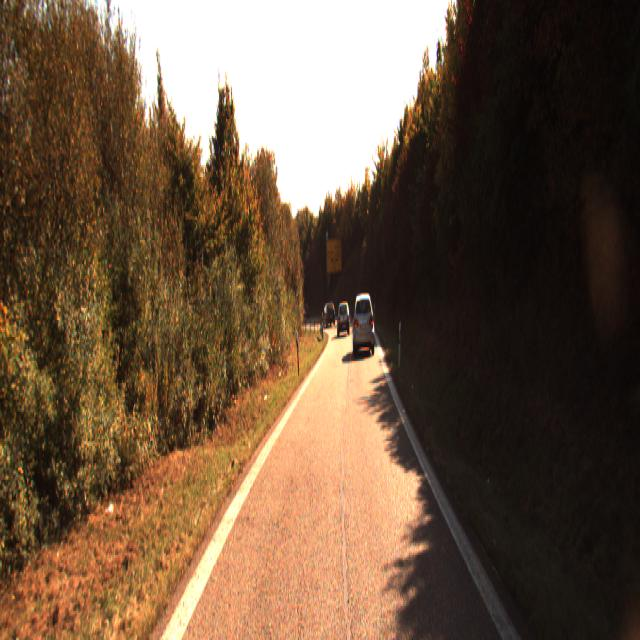Car: (352, 290, 375, 353), (337, 302, 350, 336), (322, 304, 335, 328)
